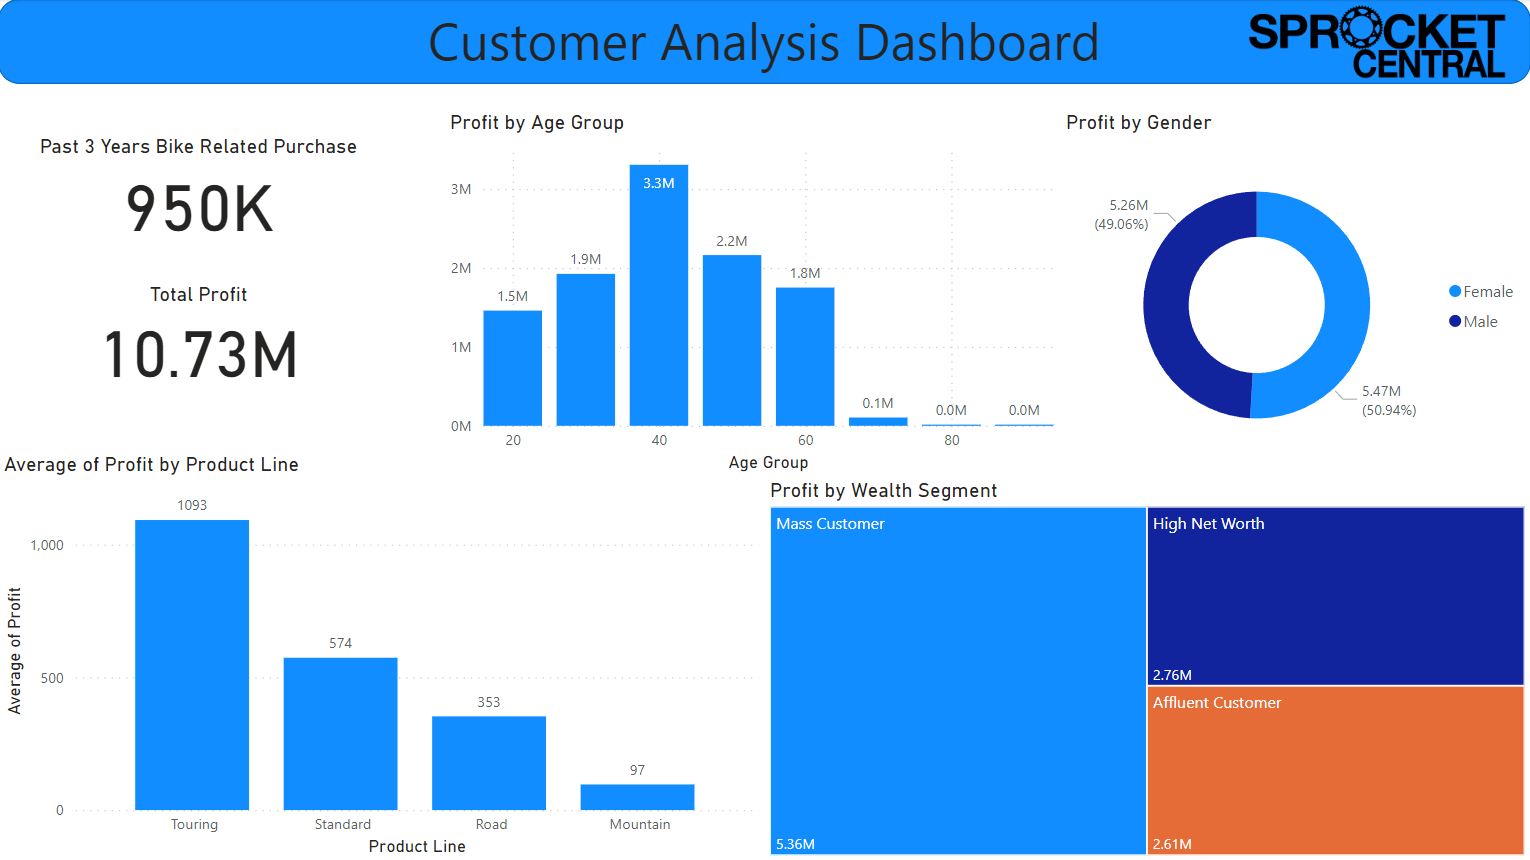

This screenshot's page, from the dashboard's own definition file:
{"tool":"powerbi","page":{"name":"Page 1","canvas":[1280,720],"ordinal":0},"visuals":[{"type":"card","title":"Past 3 Years Bike Related Purchase ","fields":{"Values":["Sum(Clean Trasactions.past_3_years_bike_related_purchases)"]},"box":[0,112.6,335.2,91.3],"z":0},{"type":"treemap","title":"Profit by Wealth Segment","fields":{"Group":["Clean Trasactions.wealth_segment"],"Values":["Sum(Clean Trasactions.Profit)"]},"box":[640.2,399.9,640.2,320.1],"z":1000},{"type":"donutChart","title":"Profit by Gender","fields":{"Category":["Clean Trasactions.gender"],"Y":["Sum(Clean Trasactions.Profit)"]},"box":[886.7,93.1,393.7,306.8],"z":2000},{"type":"columnChart","title":"Average of Profit by Product Line","fields":{"Category":["Clean Trasactions.product_line"],"Y":["Avg(Clean Trasactions.Profit)"]},"box":[0,378.1,640.5,342.1],"z":3000},{"type":"shape","box":[0,0,1280.4,70.9],"z":4000},{"type":"image","box":[1028.6,0,251.8,86],"z":5000},{"type":"columnChart","title":"Profit by Age Group","fields":{"Y":["Sum(Clean Trasactions.Profit)"],"Category":["Clean Trasactions.Age Group"]},"box":[372.4,93.1,514.3,306.8],"z":6000},{"type":"textbox","box":[0,0,1280.4,70.9],"z":7000},{"type":"card","title":"Total Profit","fields":{"Values":["Sum(Clean Trasactions.Profit)"]},"box":[0,236.7,335.2,87.8],"z":8000}]}

Visuals, with their boxes in screenshot pixels (x1, y1, x2, y2), scaled from the page's 1280x720 canvas onto the 1530x860 screenshot:
"Past 3 Years Bike Related Purchase " card: 0, 134, 401, 244
"Profit by Wealth Segment" treemap: 765, 478, 1529, 859
"Profit by Gender" donutChart: 1060, 111, 1529, 478
"Average of Profit by Product Line" columnChart: 0, 452, 766, 859
shape: 0, 0, 1529, 85
image: 1229, 0, 1529, 103
"Profit by Age Group" columnChart: 445, 111, 1060, 478
textbox: 0, 0, 1529, 85
"Total Profit" card: 0, 283, 401, 388
